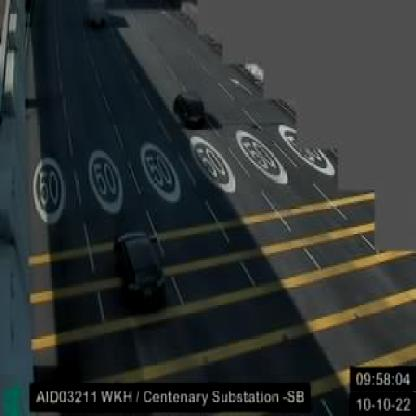Car: (118, 232, 168, 306), (175, 91, 207, 126)
Truck: (84, 0, 105, 27)
